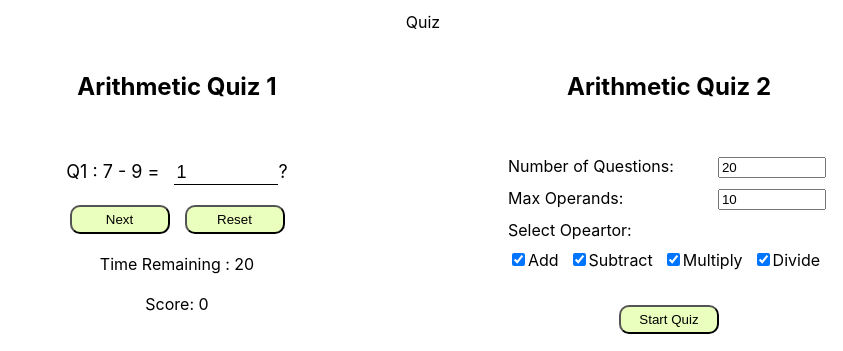
it: renders back to quiz component after reset
Click the button "Reset". click: click(234, 219)
box: [184,205,284,234]
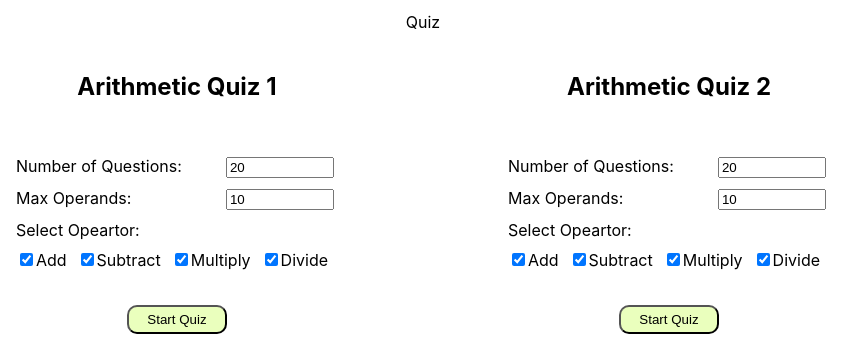
expect the text "Number of Questions:" below "Arithmetic Quiz 1" is shown: met, box [16,156,182,176]
